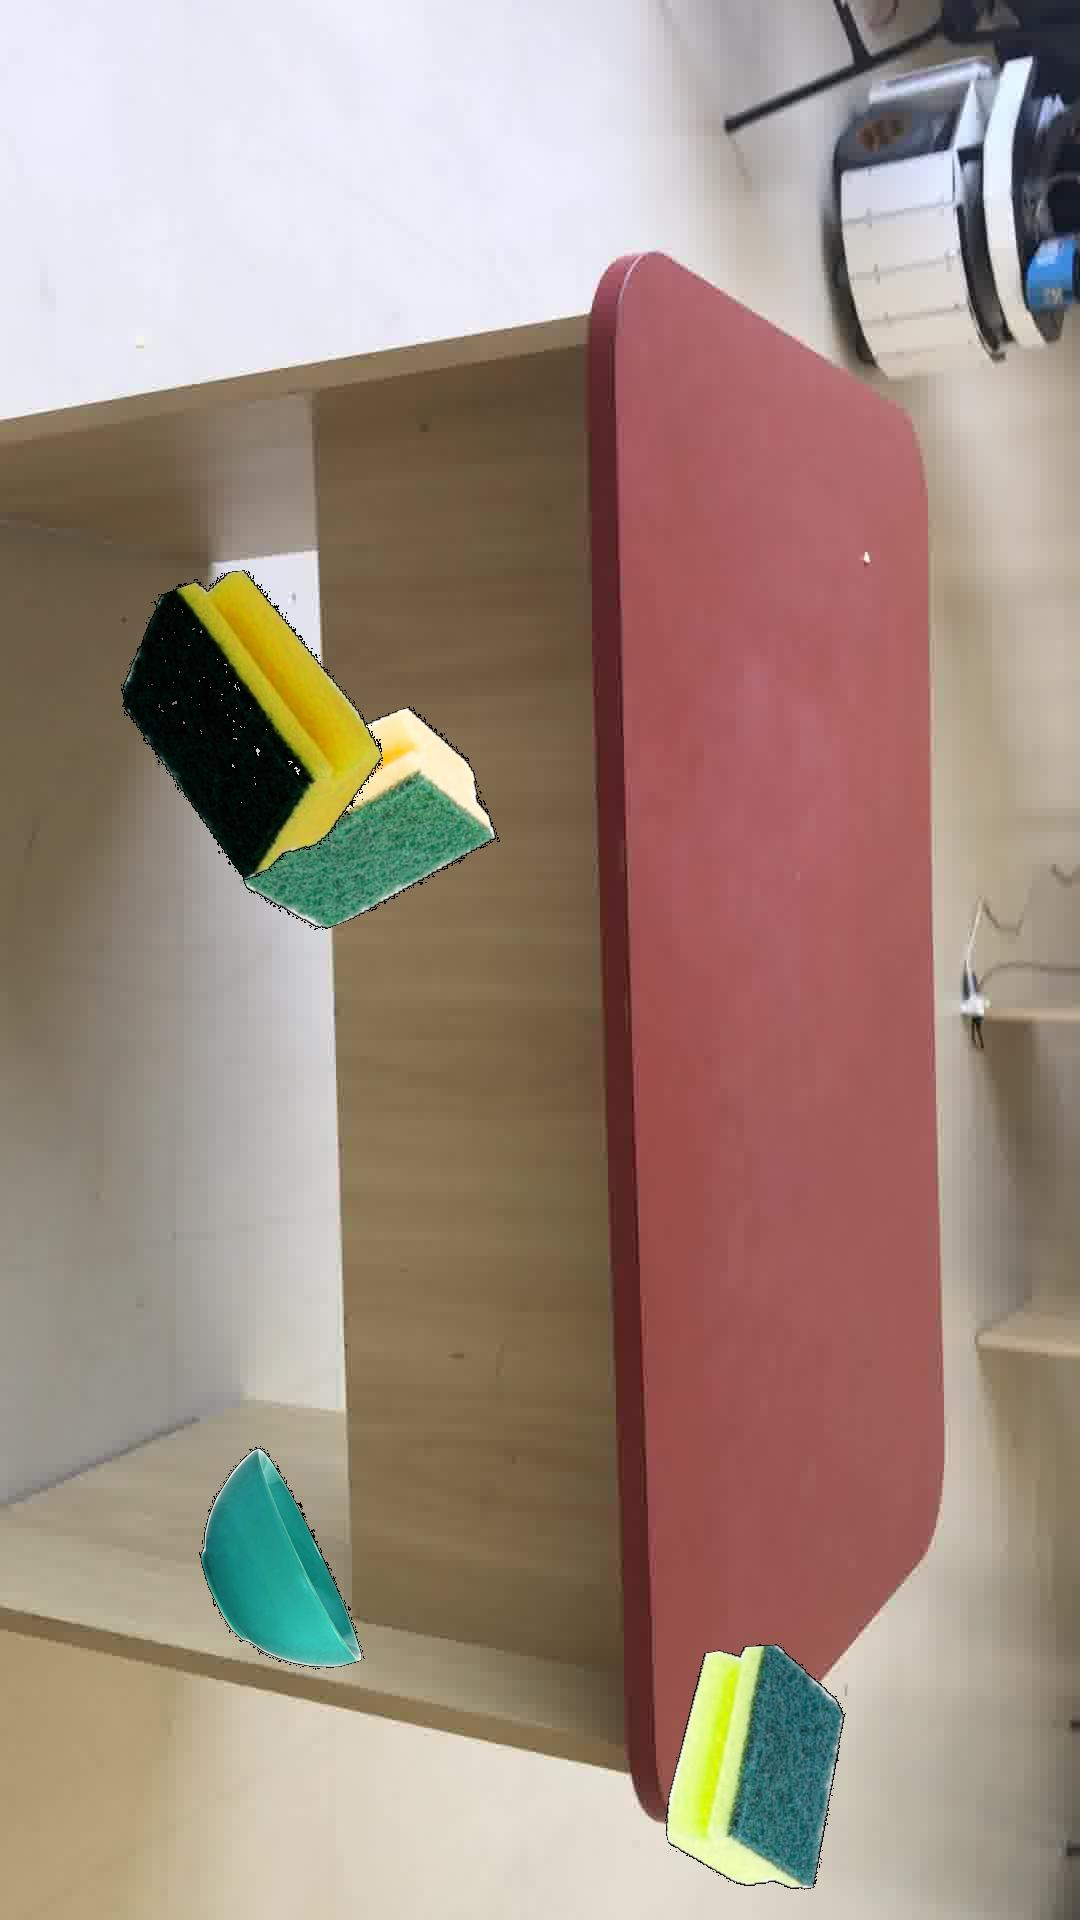bowl: (198, 1445, 360, 1667)
sponge: (120, 568, 381, 878), (241, 704, 495, 927), (665, 1643, 844, 1888)
